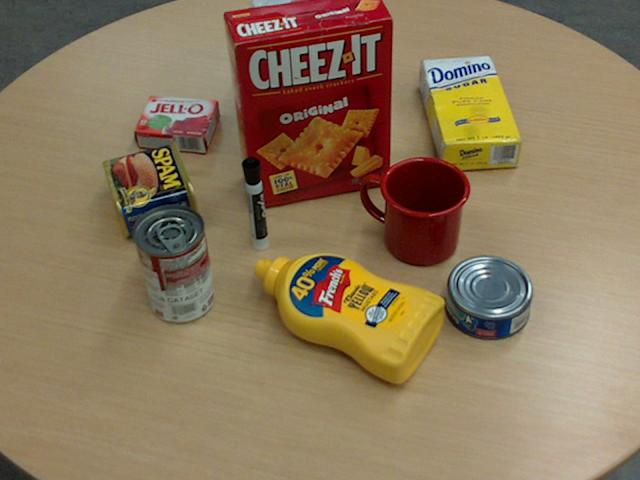cracker_box: (223, 0, 393, 207)
gelatin_box: (132, 94, 219, 152)
large_marker: (241, 156, 269, 251)
master_chef_can: (251, 0, 339, 126)
mug: (362, 155, 470, 264)
mustard_bottle: (253, 253, 444, 382)
potted_meat_can: (103, 139, 200, 236)
sugar_box: (419, 55, 522, 171)
tomato_soup_can: (130, 202, 213, 322)
tuna_fish_can: (445, 255, 533, 339)
